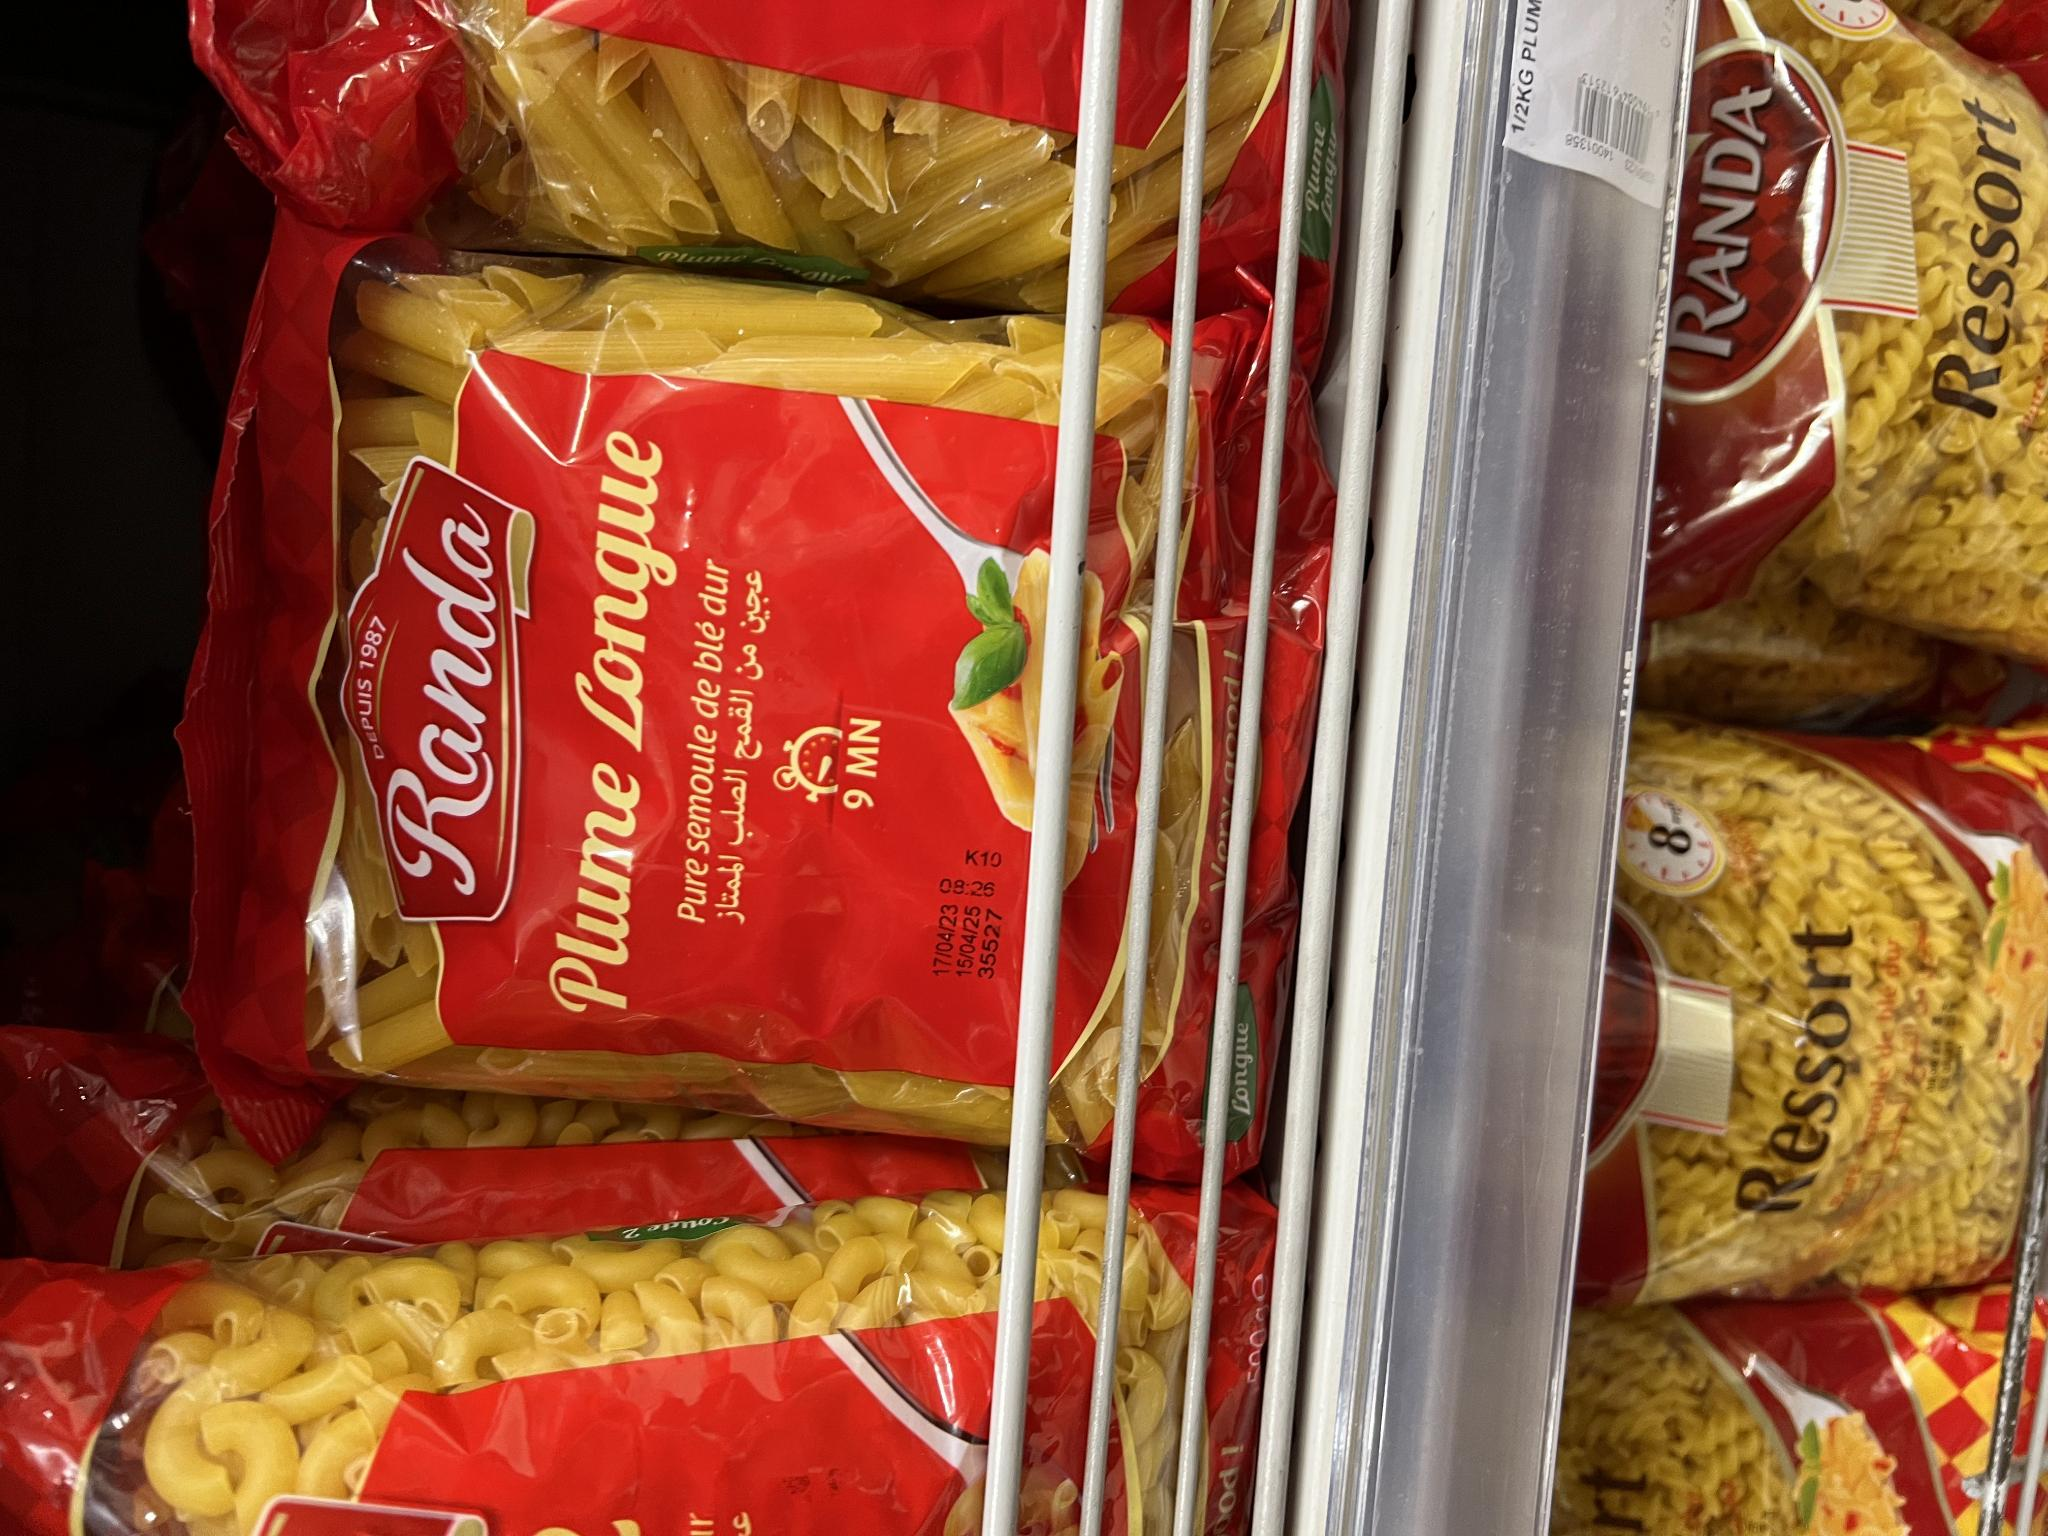Coude: (58, 1205, 1229, 1536)
Ressort: (1617, 739, 2048, 1296), (1709, 23, 2046, 623), (1587, 1333, 2043, 1526)
plume: (202, 240, 1279, 1128), (318, 11, 1272, 265)
